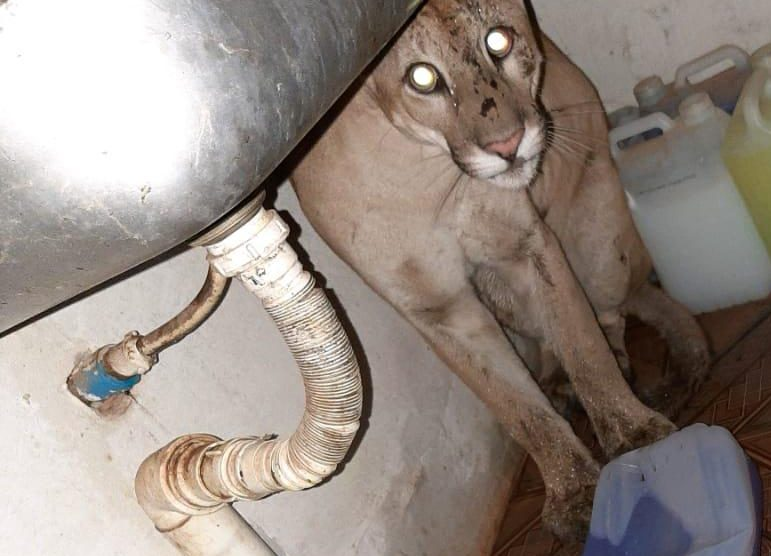OncaParda: (292, 16, 720, 532)
